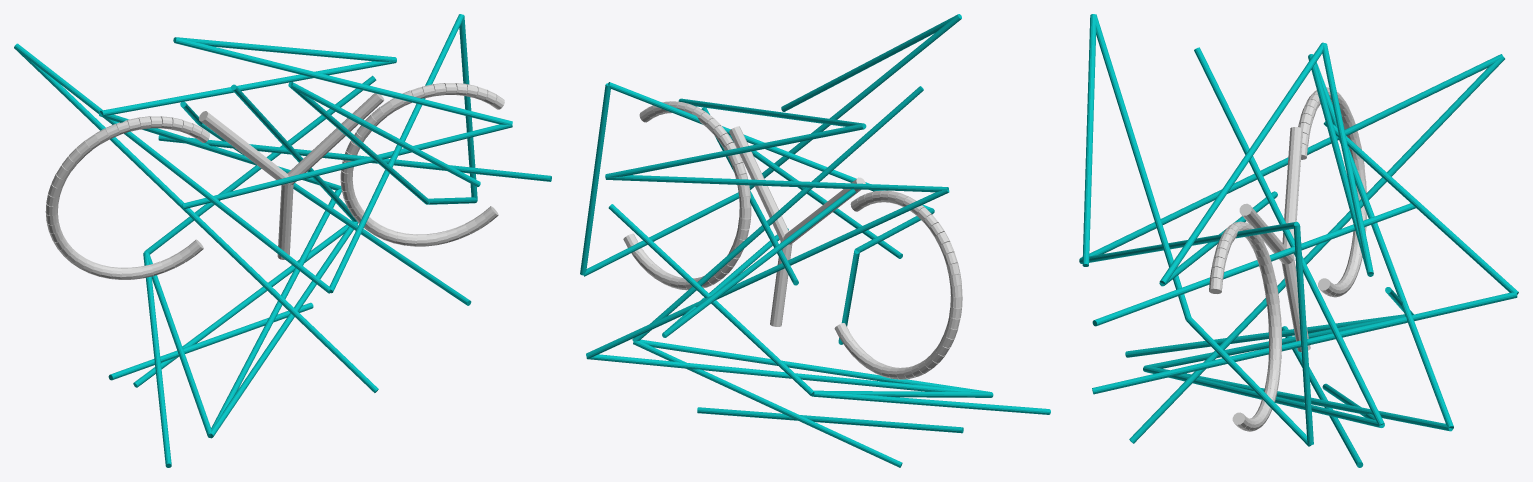
The model's file is cyc_wireframe_white_spaced.glb.
The picture shows the model from 3 angles, left to right: view 1: azimuth 30°, elevation 25°; view 2: azimuth 150°, elevation 25°; view 3: azimuth 270°, elevation 25°; orthographic projection. The views are drawn at different scales.
Visible parts, largest first — view 1: world; view 2: world; view 3: world.
Part boxes in pixels (left/top/right/bottom): world: left=14, top=14, right=551, bottom=467; world: left=580, top=14, right=1050, bottom=467; world: left=1079, top=14, right=1518, bottom=467.
Bounding box in the file's own units: 3.1 × 2.69 × 2.67.
